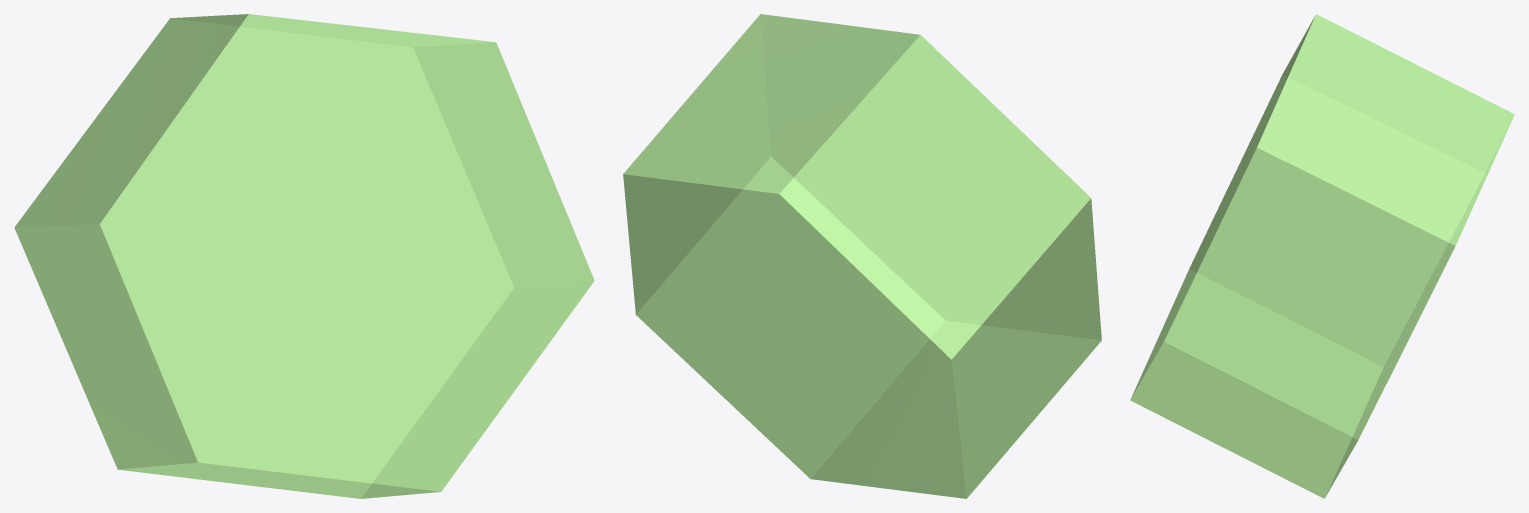
3 views of the same model, side by side, from view 1: azimuth 30°, elevation 25°; view 2: azimuth 150°, elevation 25°; view 3: azimuth 270°, elevation 25° (orthographic). The views are drawn at different scales.
Size of the model in its own units: 5.3 by 5.7 by 4.55.
